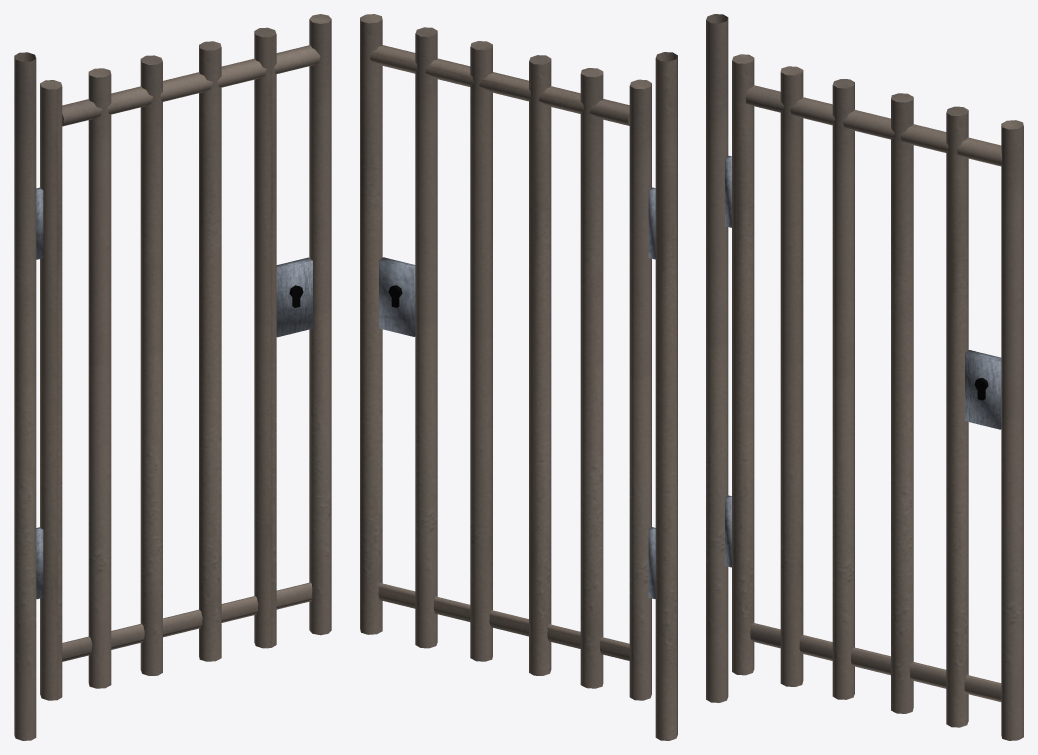
The model's file is jail_door.glb.
The picture shows the model from 3 angles, left to right: view 1: azimuth 30°, elevation 25°; view 2: azimuth 150°, elevation 25°; view 3: azimuth 330°, elevation 25°; orthographic projection.
Parts seen in each view (by area): view 1: Door2; view 2: Door2; view 3: Door2.
Boxes of the visible parts, bbox=[...] form: Door2: bbox=[14, 14, 331, 740]; Door2: bbox=[360, 14, 677, 740]; Door2: bbox=[706, 14, 1023, 740].
Bounding box in the file's own units: 0.9697 × 2 × 0.064.
3 materials, 2 textured.
